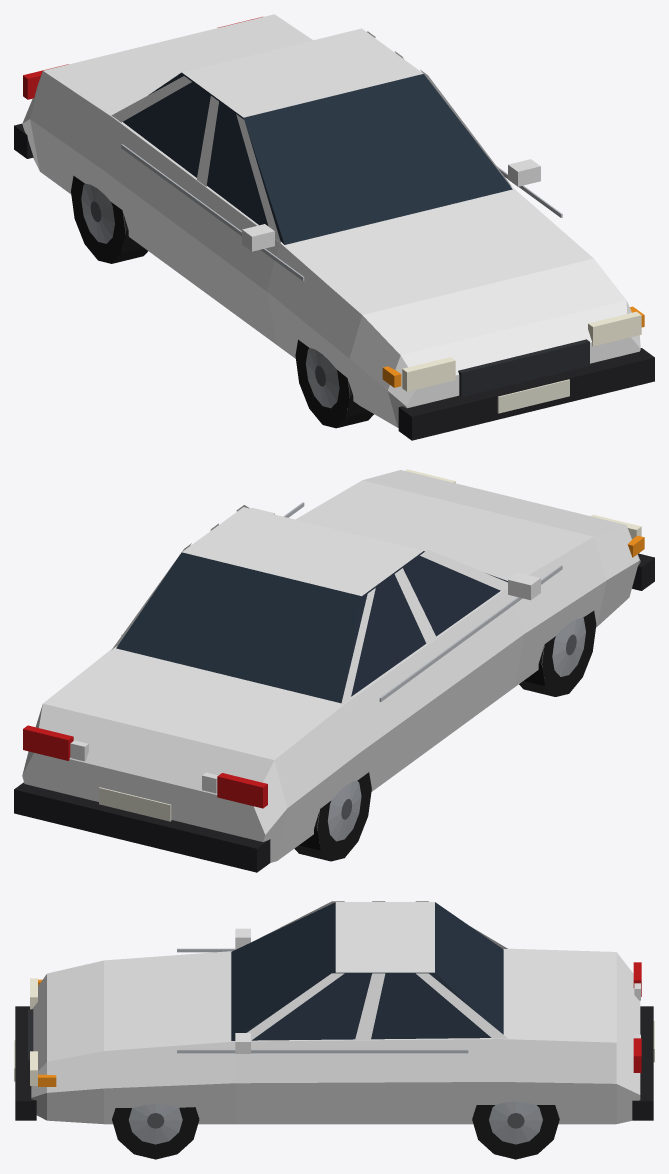
Rendered from sedan.glb.
The picture shows the model from 3 angles, top to bottom: view 1: azimuth 30°, elevation 25°; view 2: azimuth 150°, elevation 25°; view 3: azimuth 270°, elevation 25°; orthographic projection. The views are drawn at different scales.
Visible parts, largest first — view 1: Body, Wheel_RR, Wheel_FR; view 2: Body, Wheel_RR, Wheel_FR; view 3: Body, Wheel_RL, Wheel_FL.
Boxes of the visible parts, x1,y1,x2,y2 form: Body: (14,14,654,440); Wheel_RR: (71,175,147,263); Wheel_FR: (295,339,373,428); Body: (14,469,654,872); Wheel_RR: (294,772,371,861); Wheel_FR: (519,611,596,696); Body: (14,901,654,1124); Wheel_RL: (472,1101,559,1159); Wheel_FL: (112,1104,199,1159).
Bounding box in the file's own units: 2.02 × 1.45 × 4.84.
Materials: 4 (3 with a texture image).
